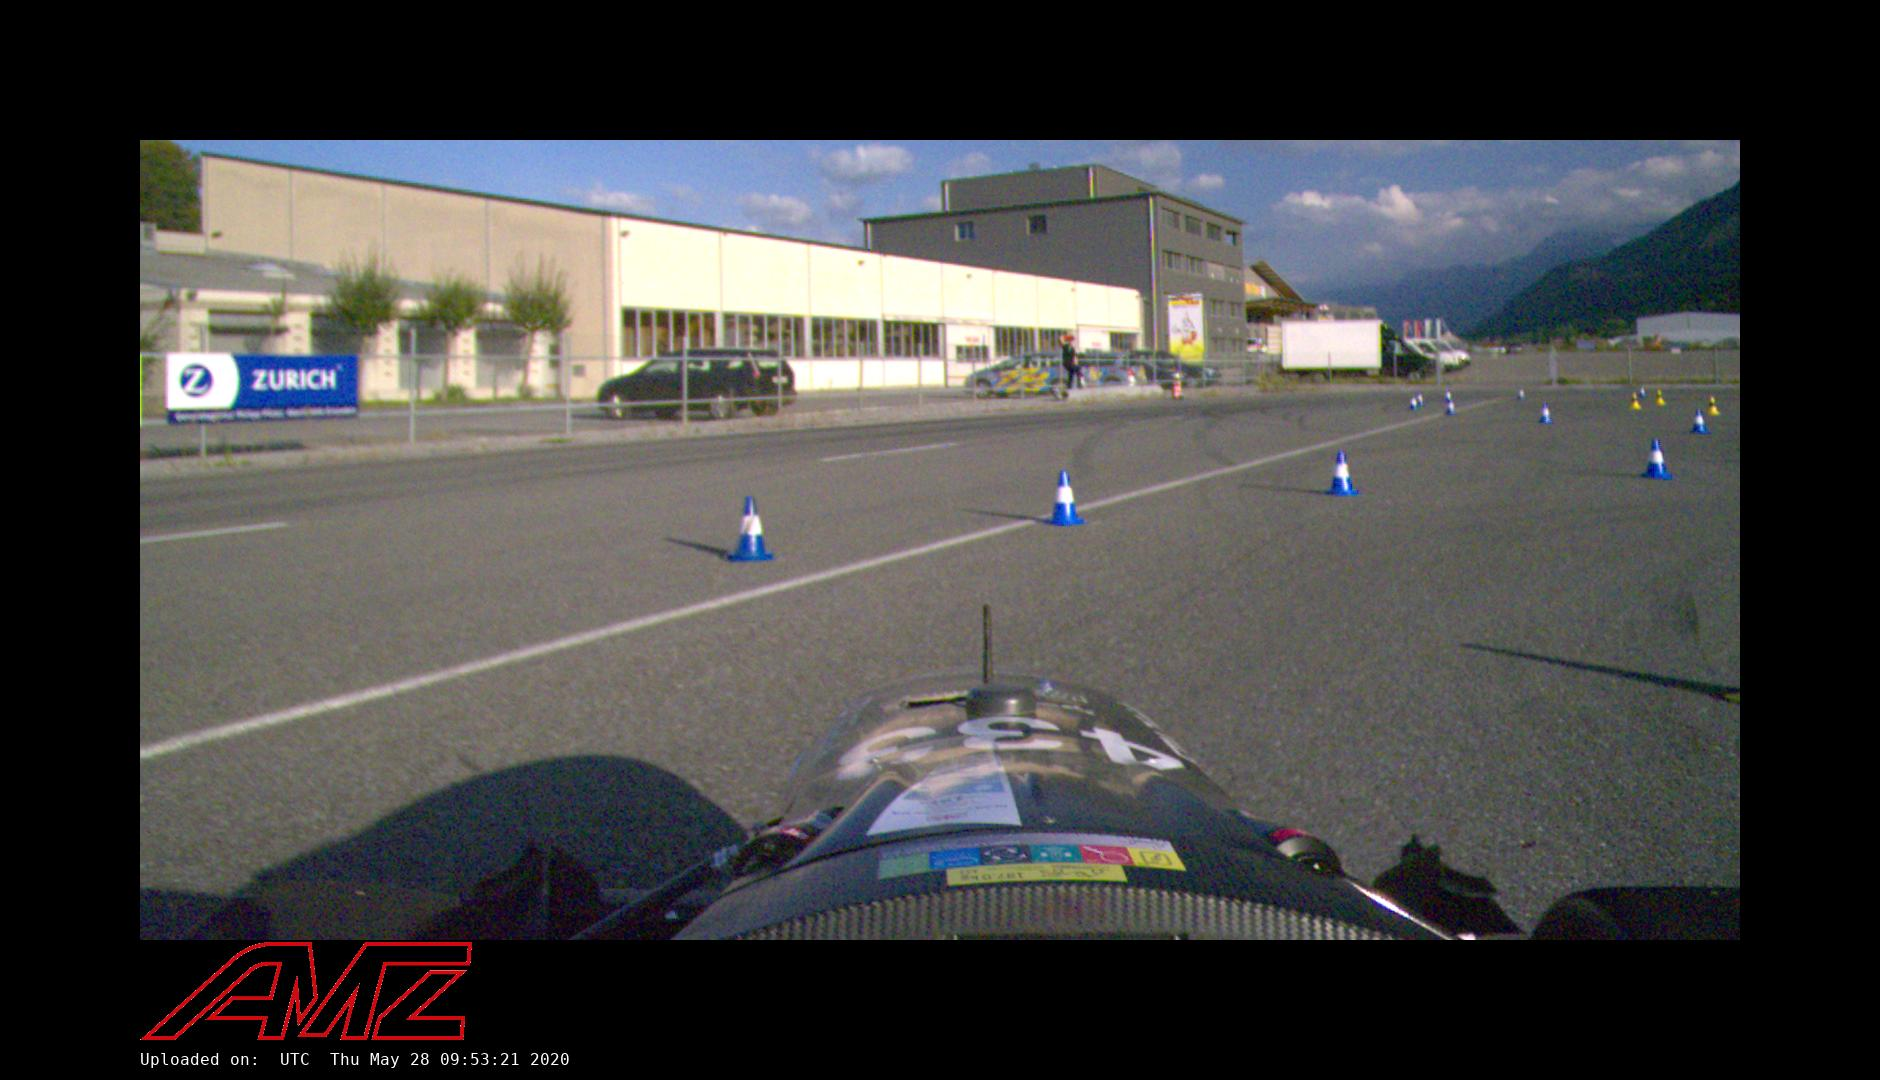blue_cone: (726, 497, 775, 561), (1042, 469, 1090, 527), (1325, 450, 1364, 496), (1640, 437, 1673, 481), (1690, 408, 1711, 435), (1538, 400, 1555, 422), (1444, 398, 1459, 416), (1407, 397, 1419, 410), (1416, 391, 1425, 406), (1516, 388, 1526, 399), (1444, 389, 1453, 402), (1639, 385, 1648, 397)
yellow_cone: (1706, 397, 1721, 416), (1654, 389, 1667, 406), (1630, 391, 1641, 410)
